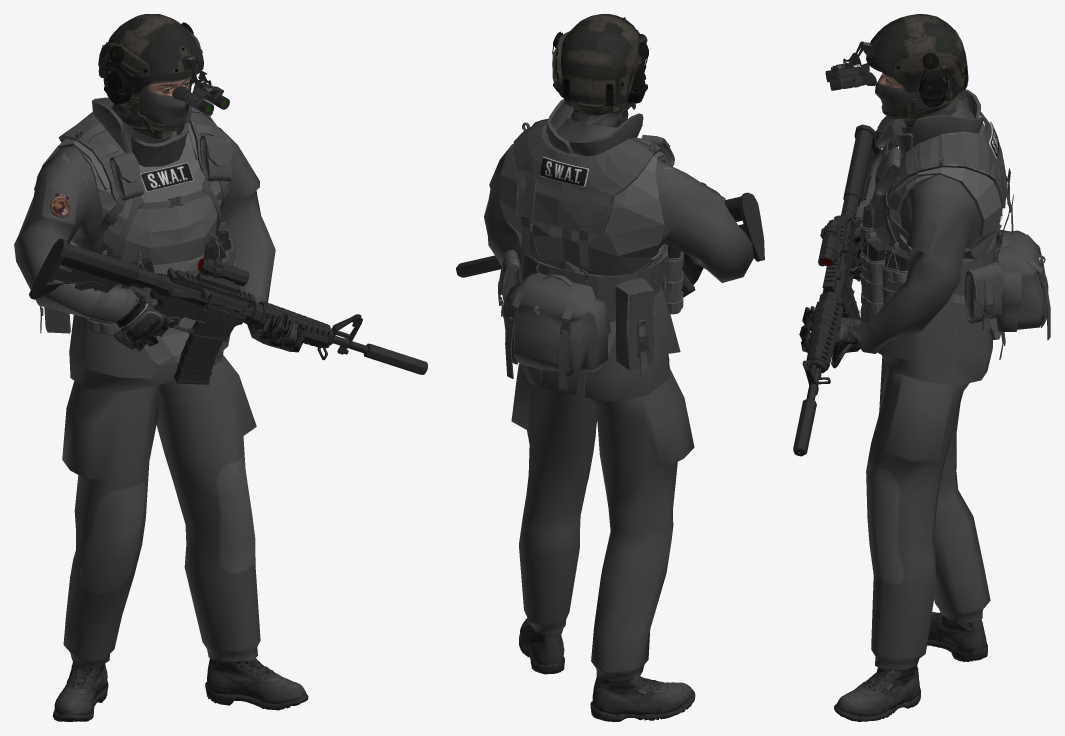
The model's file is swat.glb.
The picture shows the model from 3 angles, left to right: view 1: azimuth 30°, elevation 25°; view 2: azimuth 150°, elevation 25°; view 3: azimuth 270°, elevation 25°; orthographic projection. The views are drawn at different scales.
Parts seen in each view (by area): view 1: Object_8, Object_16, Object_9, Object_10, Object_6, Object_3, Object_11, Object_5, Object_4, Object_17; view 2: Object_8, Object_9, Object_10, Object_16, Object_4, Object_5, Object_3; view 3: Object_8, Object_16, Object_9, Object_10, Object_4, Object_6, Object_3, Object_11, Object_17.
Boxes of the visible parts, x1,y1,x2,y2 form: Object_8: [14, 97, 275, 669]; Object_16: [29, 238, 427, 384]; Object_9: [98, 14, 203, 132]; Object_10: [52, 657, 308, 721]; Object_6: [115, 291, 305, 352]; Object_3: [112, 68, 189, 139]; Object_11: [172, 55, 229, 115]; Object_5: [50, 162, 193, 217]; Object_4: [87, 222, 236, 336]; Object_17: [109, 227, 329, 347]; Object_8: [484, 99, 753, 681]; Object_9: [552, 14, 648, 115]; Object_10: [519, 618, 695, 721]; Object_16: [456, 192, 764, 297]; Object_4: [662, 244, 683, 314]; Object_5: [539, 156, 719, 194]; Object_3: [570, 102, 631, 127]; Object_8: [853, 89, 1050, 669]; Object_16: [793, 124, 881, 456]; Object_9: [866, 14, 968, 119]; Object_10: [834, 612, 987, 721]; Object_4: [859, 198, 907, 313]; Object_6: [799, 217, 863, 368]; Object_3: [875, 73, 962, 146]; Object_11: [825, 41, 876, 90]; Object_17: [807, 205, 910, 360].
Size of the model in its own units: 99.44 by 184 by 65.54.
Materials: 13 (10 with a texture image).
